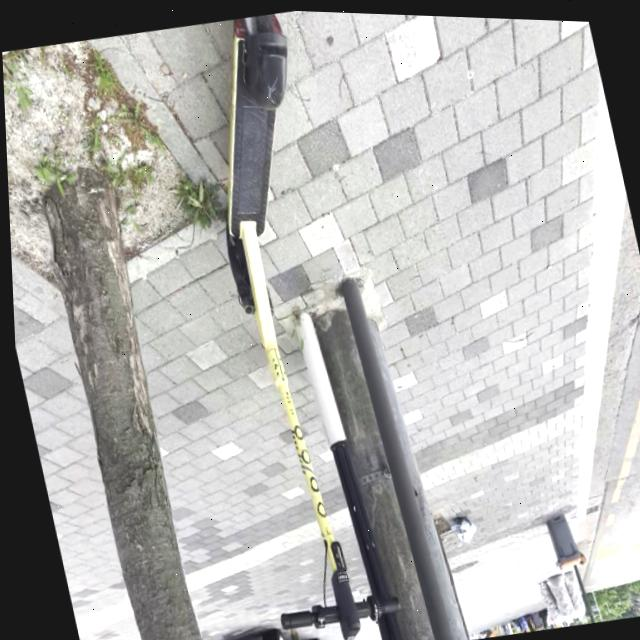crosswalk: (590, 536, 640, 584)
kickboard_ok: (206, 180, 367, 640)
